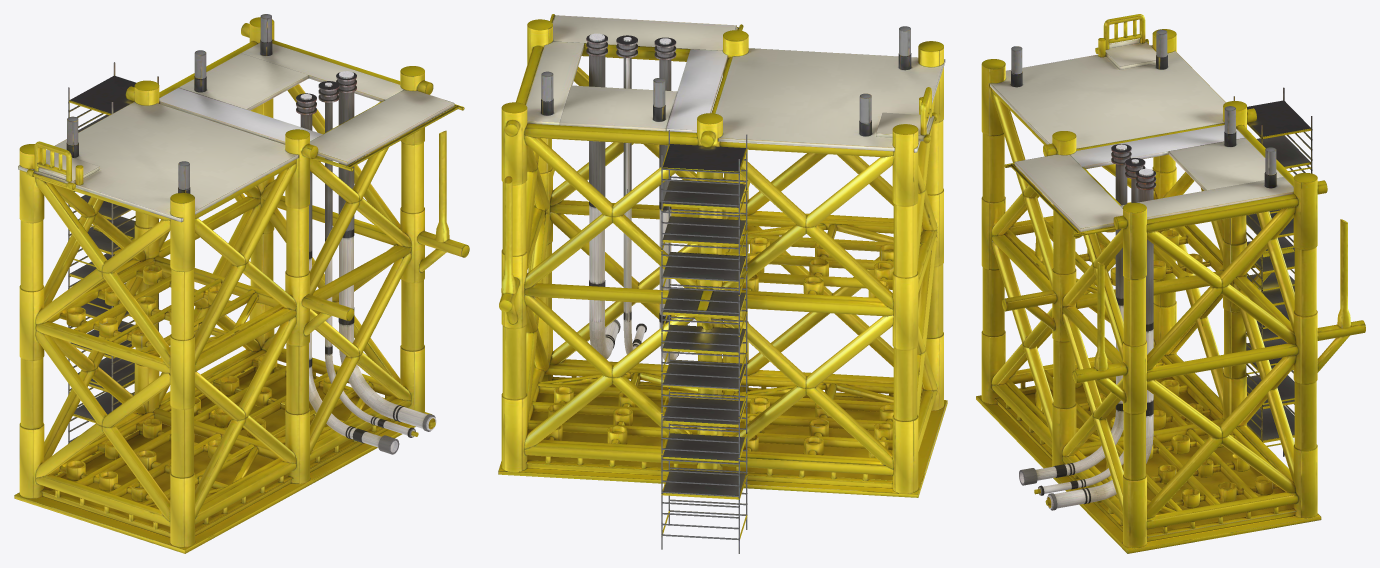
The model's file is bp-jacket.glb.
The picture shows the model from 3 angles, left to right: view 1: azimuth 30°, elevation 25°; view 2: azimuth 150°, elevation 25°; view 3: azimuth 270°, elevation 25°; orthographic projection. The views are drawn at different scales.
Visible parts, largest first — view 1: MAIN PIPE.001, WHITE PIPE.002, STAIRS.002; view 2: MAIN PIPE.001, STAIRS.002, WHITE PIPE.002; view 3: MAIN PIPE.001, WHITE PIPE.002, STAIRS.002.
Boxes of the visible parts, x1=… form: MAIN PIPE.001: x1=14, y1=14, x2=469, y2=553; WHITE PIPE.002: x1=296, y1=71, x2=436, y2=454; STAIRS.002: x1=68, y1=62, x2=158, y2=443; MAIN PIPE.001: x1=498, y1=14, x2=947, y2=497; STAIRS.002: x1=661, y1=130, x2=747, y2=553; WHITE PIPE.002: x1=586, y1=33, x2=687, y2=362; MAIN PIPE.001: x1=976, y1=14, x2=1365, y2=553; WHITE PIPE.002: x1=1019, y1=144, x2=1156, y2=510; STAIRS.002: x1=1233, y1=87, x2=1312, y2=456.
Bounding box in the file's own units: 12.4 × 11.86 × 10.54.
Materials: 3 (3 with a texture image).
